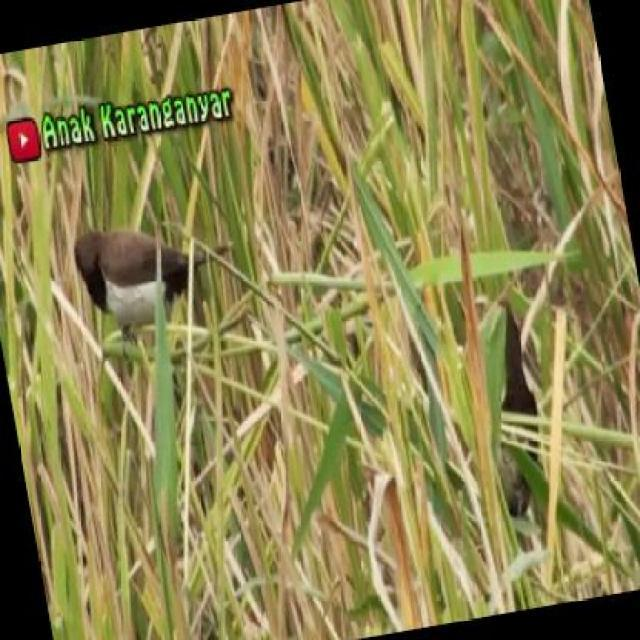Bird: (70, 225, 232, 333), (501, 305, 542, 523)
